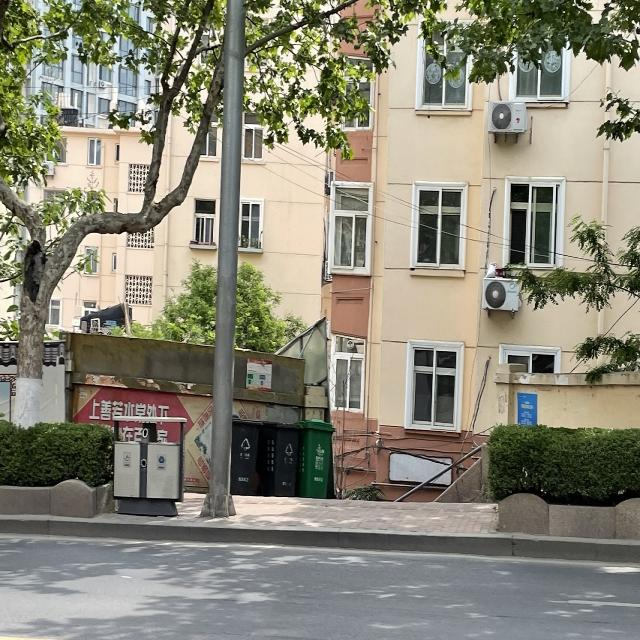garbage_bin: (111, 415, 185, 516), (261, 421, 302, 494), (298, 418, 334, 499), (229, 418, 262, 493)
